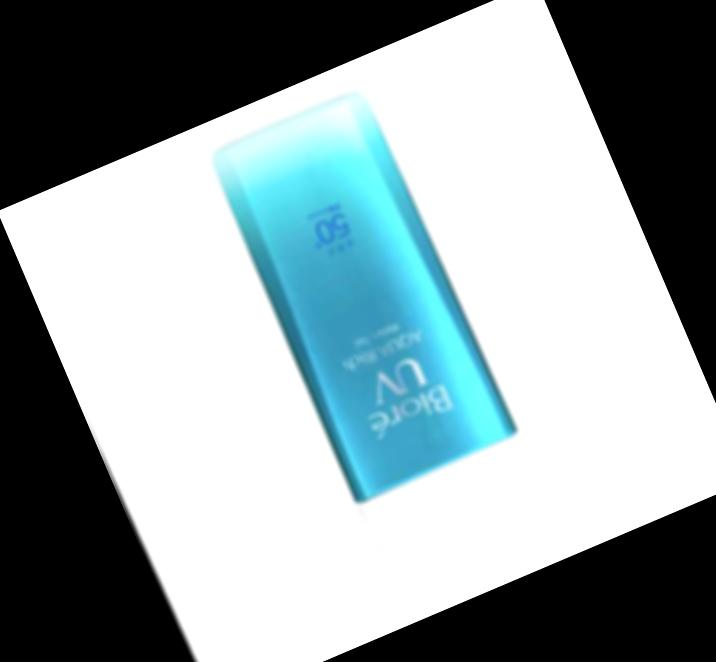cosmetic: (198, 77, 573, 612)
